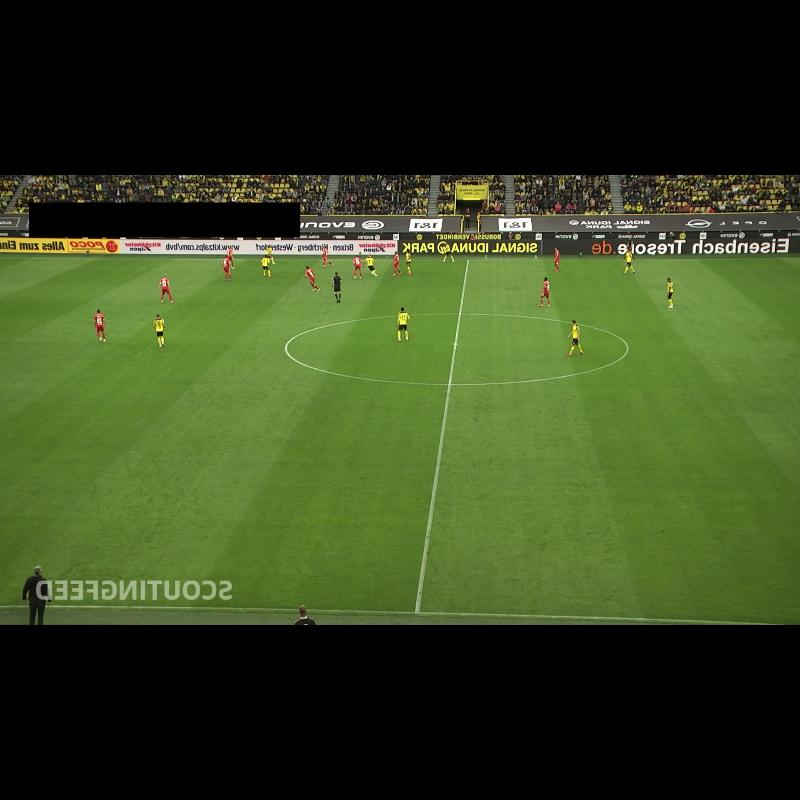crossing_player_zone: (0, 257, 128, 296)
